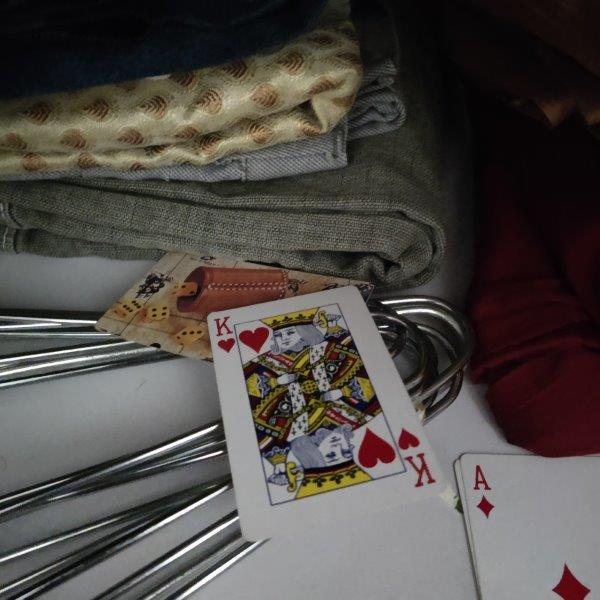Ace of Diamonds: (459, 453, 600, 600)
King of Hearts: (207, 286, 451, 542)
